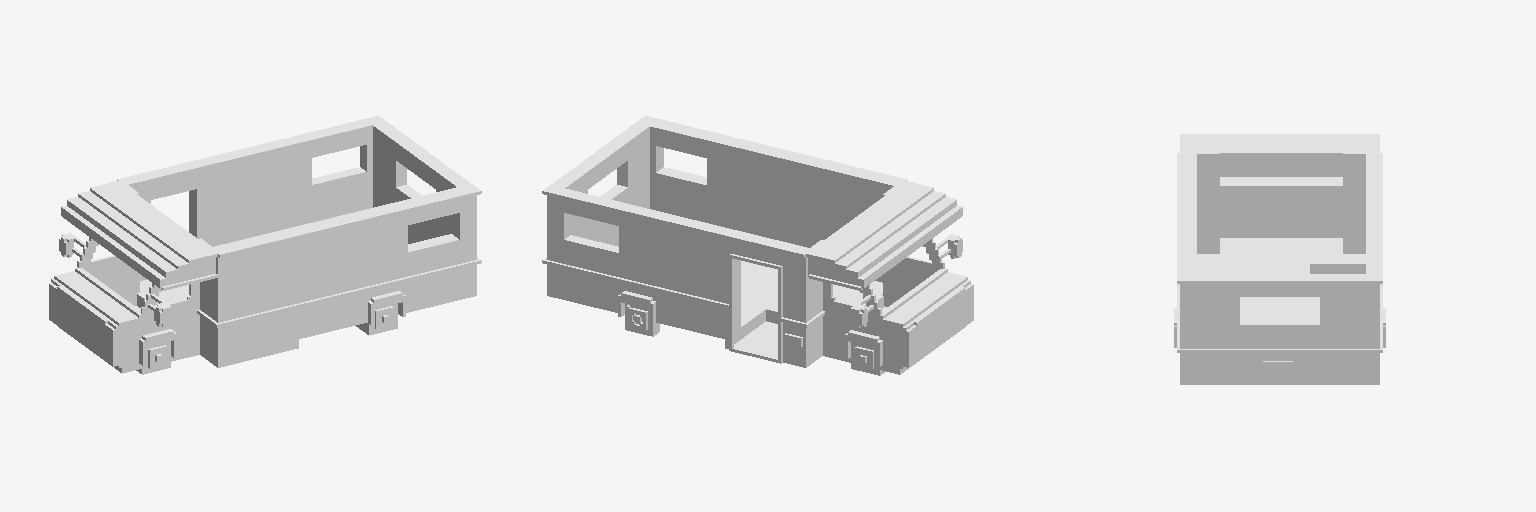
Rendered from rv-blue.obj.
3 renders of one model, left to right at view 1: azimuth 30°, elevation 25°; view 2: azimuth 150°, elevation 25°; view 3: azimuth 270°, elevation 25°, orthographic.
Visible parts, largest first — view 1: RV:Blue; view 2: RV:Blue; view 3: RV:Blue.
Part boxes in pixels (x1,y1,x2,y2): RV:Blue: (49, 116, 481, 374); RV:Blue: (542, 116, 973, 375); RV:Blue: (1174, 134, 1385, 384).
Size of the model in its own units: 121 by 40 by 64.